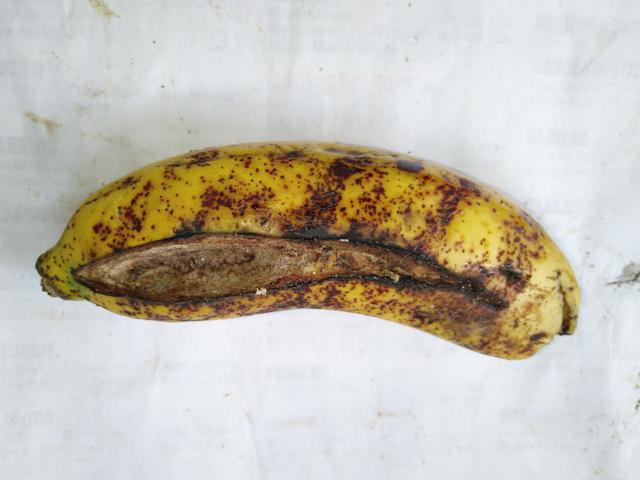rotten: (92, 207, 532, 328)
